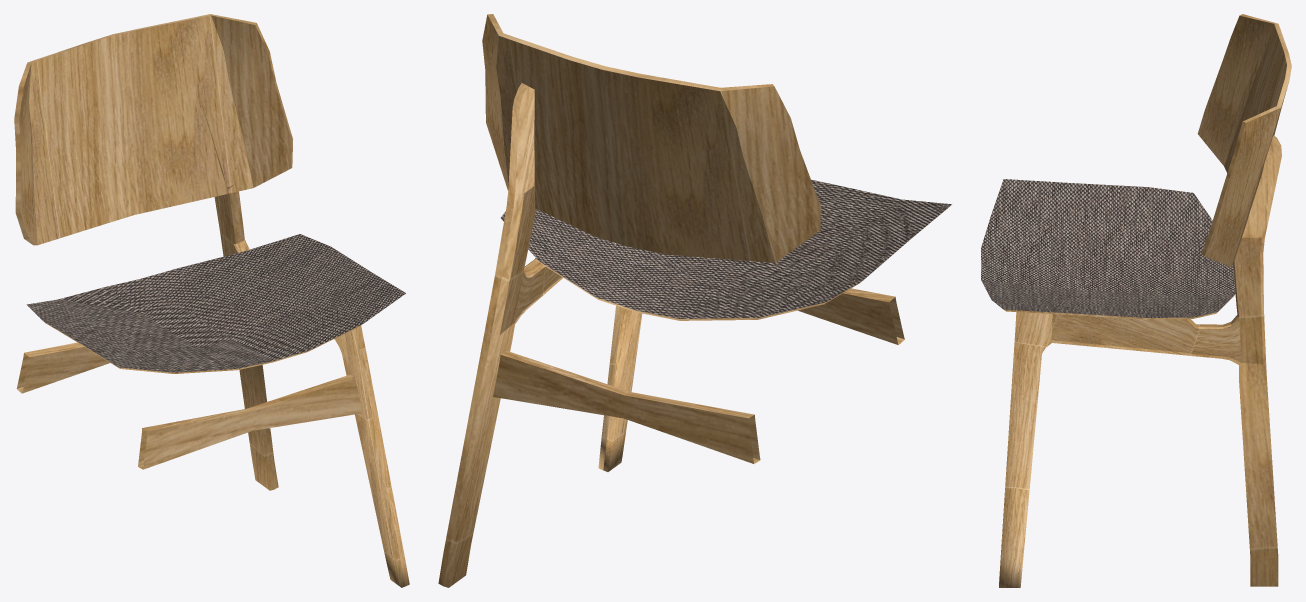
Rendered from wooden chair.glb.
The picture shows the model from 3 angles, left to right: view 1: azimuth 30°, elevation 25°; view 2: azimuth 150°, elevation 25°; view 3: azimuth 270°, elevation 25°; orthographic projection. The views are drawn at different scales.
Parts seen in each view (by area): view 1: back, cushion, legs, Cube, Cube.001, Plane; view 2: back, cushion, legs, Cube.001, Cube, Plane; view 3: cushion, legs, back, Plane.
Part boxes in pixels (<box>): back: <box>14,14,292,245</box>; cushion: <box>26,234,405,372</box>; legs: <box>199,94,409,587</box>; Cube: <box>138,374,362,469</box>; Cube.001: <box>16,342,109,393</box>; Plane: <box>44,322,361,373</box>; back: <box>482,14,820,262</box>; cushion: <box>501,179,951,318</box>; legs: <box>438,83,642,587</box>; Cube.001: <box>493,351,760,463</box>; Cube: <box>798,288,904,344</box>; Plane: <box>540,262,861,320</box>; cushion: <box>981,179,1235,317</box>; legs: <box>999,135,1281,587</box>; back: <box>1197,14,1291,266</box>; Plane: <box>1004,296,1233,319</box>.
Bounding box in the file's own units: 1.35 × 2.13 × 1.31.
Materials: 6 (6 with a texture image).
